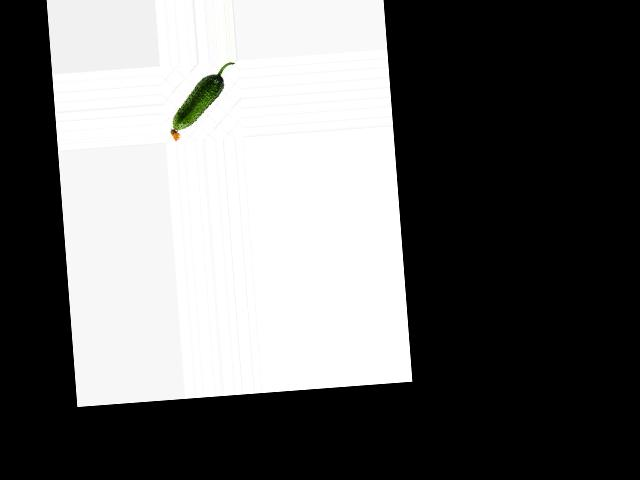cucumber: (165, 62, 239, 142)
